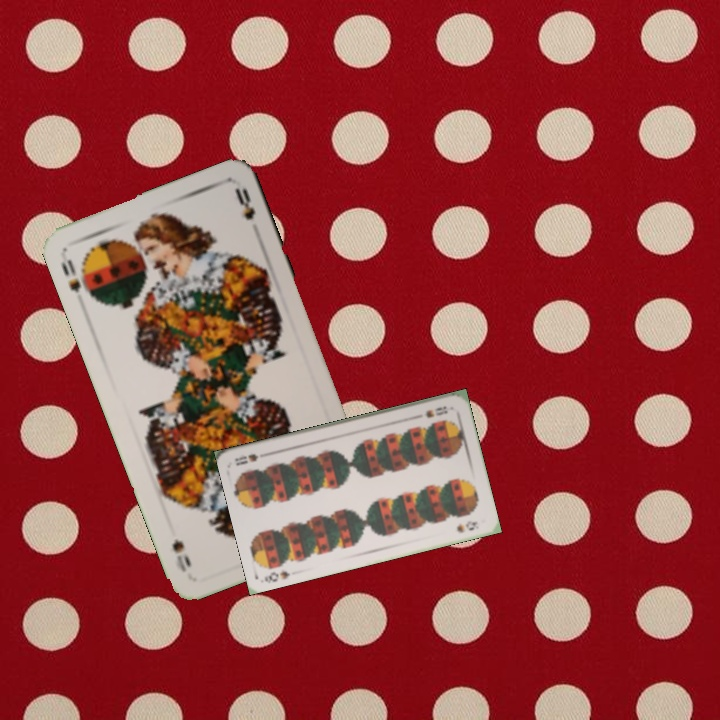S8: (260, 565, 293, 586), (421, 402, 450, 420)
SO: (57, 254, 84, 295)
